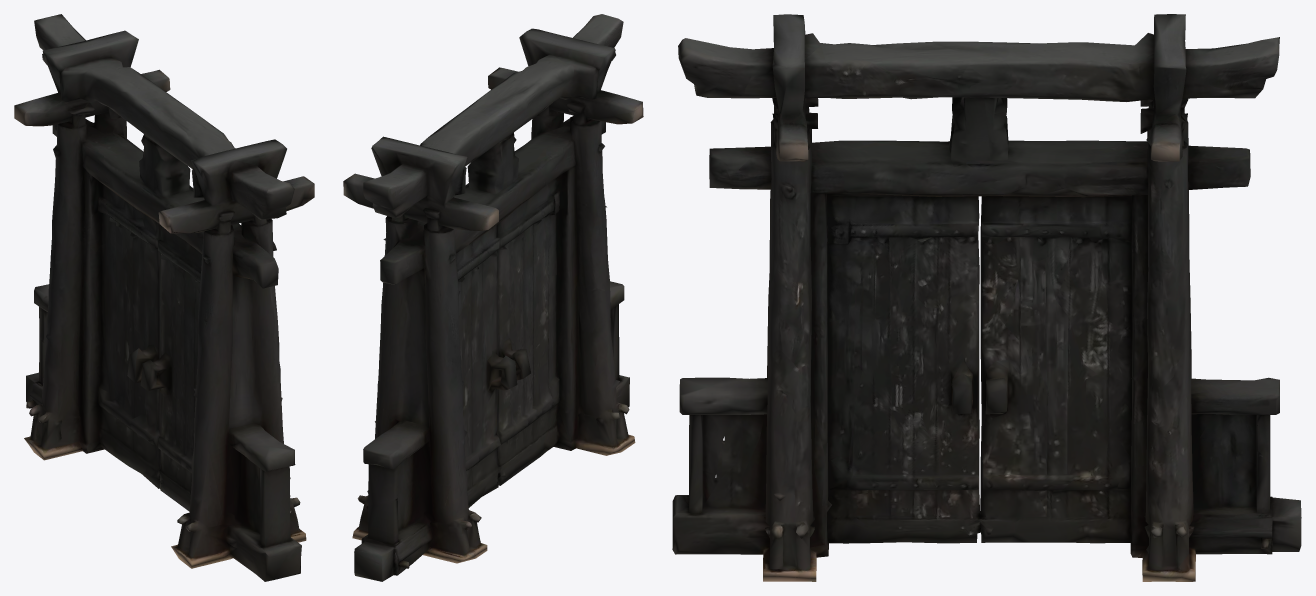
File: black-gate.glb
The picture shows the model from 3 angles, left to right: view 1: azimuth 30°, elevation 25°; view 2: azimuth 150°, elevation 25°; view 3: azimuth 270°, elevation 25°; orthographic projection. The views are drawn at different scales.
Parts seen in each view (by area): view 1: tripo_node_75b78061-3e0f-4160-81d7-5372e0fa6107; view 2: tripo_node_75b78061-3e0f-4160-81d7-5372e0fa6107; view 3: tripo_node_75b78061-3e0f-4160-81d7-5372e0fa6107.
Boxes of the visible parts, x1,y1,x2,y2 form: tripo_node_75b78061-3e0f-4160-81d7-5372e0fa6107: (14,14,314,581); tripo_node_75b78061-3e0f-4160-81d7-5372e0fa6107: (343,14,643,581); tripo_node_75b78061-3e0f-4160-81d7-5372e0fa6107: (672,14,1301,581).
Bounding box in the file's own units: 0.3429 × 0.8872 × 1.
Materials: 1 (1 with a texture image).
